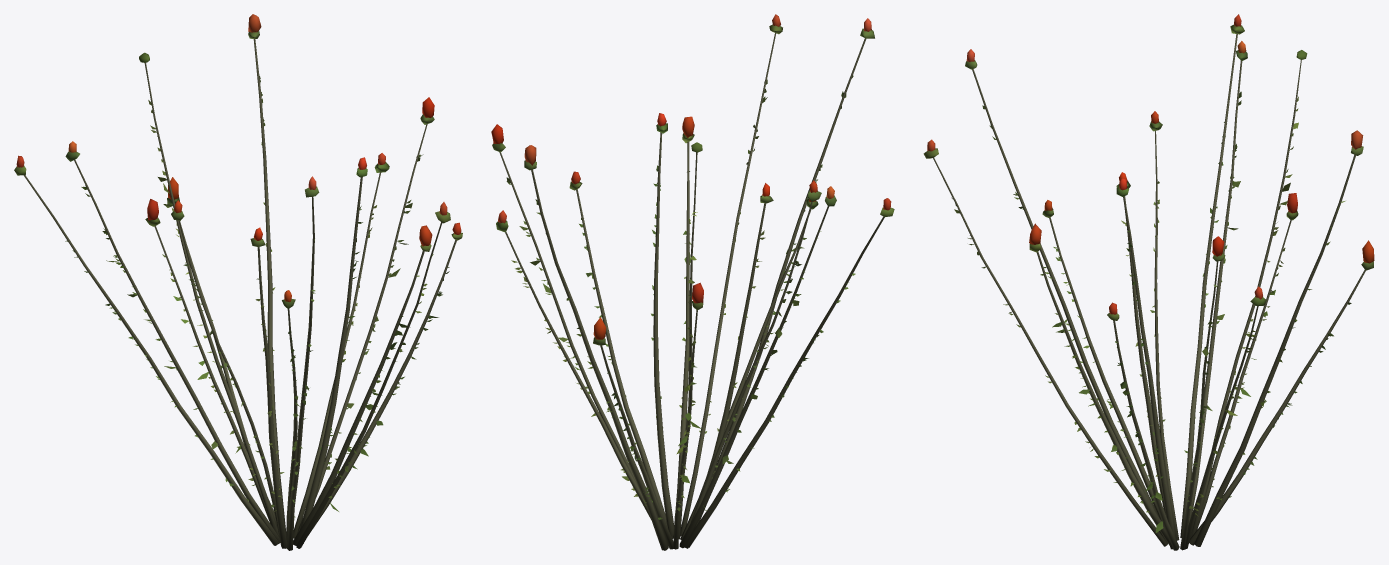
File: ocotillo.glb
3 renders of one model, left to right at view 1: azimuth 30°, elevation 25°; view 2: azimuth 150°, elevation 25°; view 3: azimuth 270°, elevation 25°, orthographic. The views are drawn at different scales.
Parts seen in each view (by area): view 1: ocotillo, ocotillo-lo; view 2: ocotillo, ocotillo-lo; view 3: ocotillo, ocotillo-lo.
Boxes of the visible parts, x1,y1,x2,y2 form: ocotillo: [16, 31, 461, 550]; ocotillo-lo: [14, 14, 462, 550]; ocotillo: [493, 14, 891, 550]; ocotillo-lo: [491, 24, 894, 550]; ocotillo: [927, 14, 1365, 550]; ocotillo-lo: [923, 24, 1374, 550].
Bounding box in the file's own units: 4 × 4.36 × 3.9.
